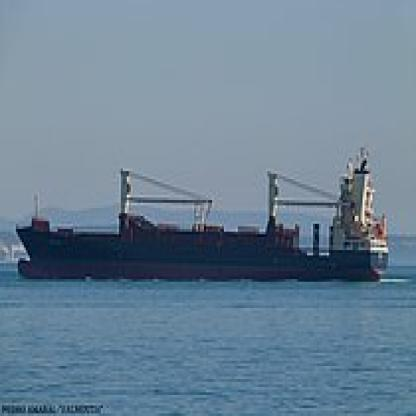Tanker: (10, 140, 394, 292)
